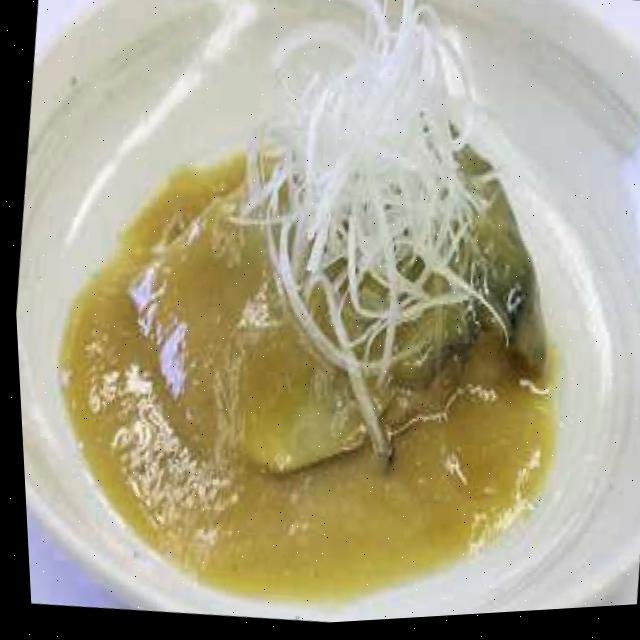熟制海鲜: (38, 3, 623, 569)
